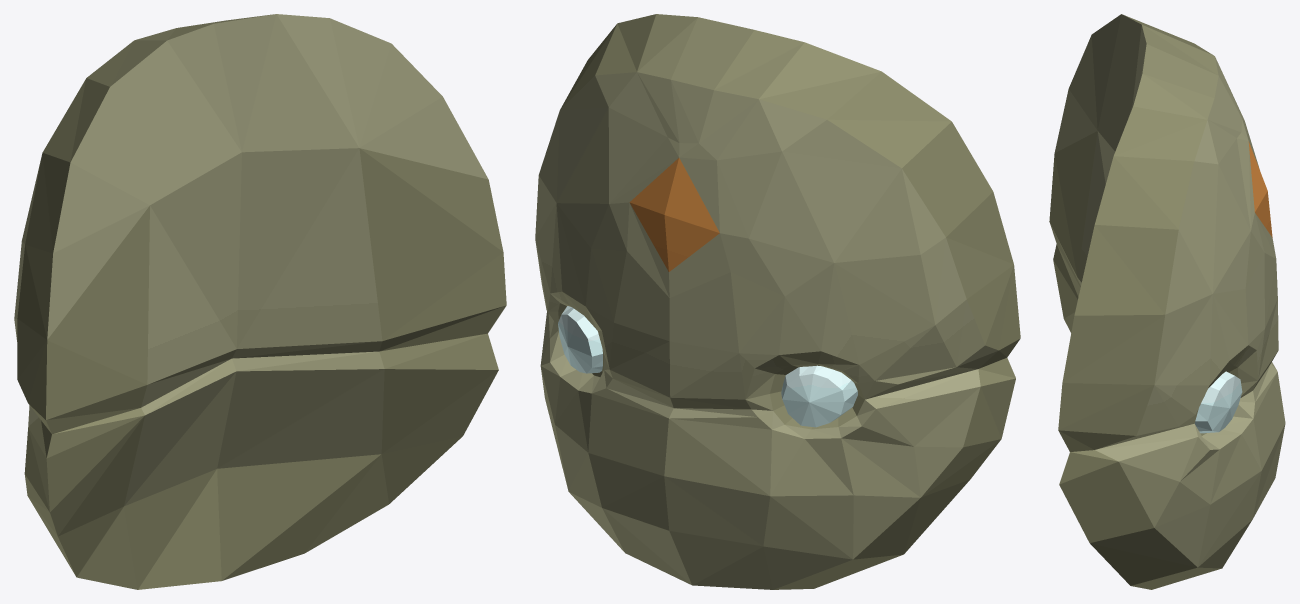
The model's file is CharSkyKid_Mask_NPC.glb.
3 views of the same model, side by side, from view 1: azimuth 30°, elevation 25°; view 2: azimuth 150°, elevation 25°; view 3: azimuth 270°, elevation 25° (orthographic). The views are drawn at different scales.
Visible parts, largest first — view 1: CharSkyKid_Mask_NPC; view 2: CharSkyKid_Mask_NPC; view 3: CharSkyKid_Mask_NPC.
Part boxes in pixels (x1,y1,x2,y2): CharSkyKid_Mask_NPC: [14, 14, 506, 589]; CharSkyKid_Mask_NPC: [535, 14, 1020, 589]; CharSkyKid_Mask_NPC: [1049, 14, 1285, 589].
Size of the model in its own units: 2.14 by 2.5 by 1.04.
Materials: 1 (1 with a texture image).
